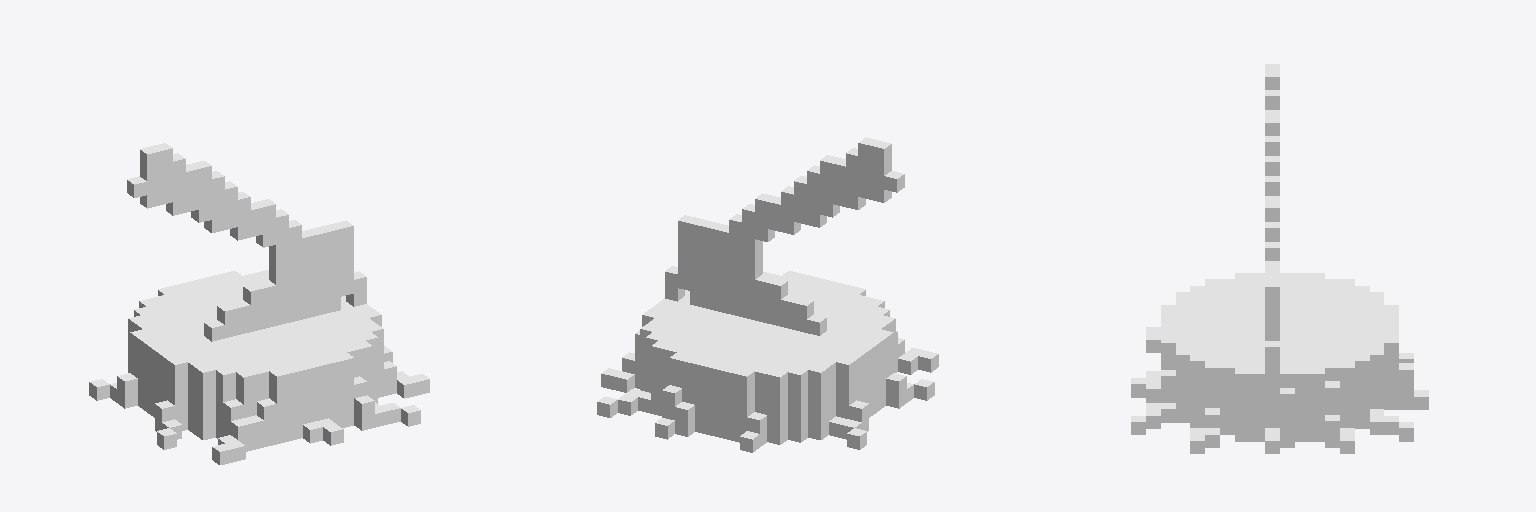
The model's file is StumpWithAxe.obj.
3 views of the same model, side by side, from view 1: azimuth 30°, elevation 25°; view 2: azimuth 150°, elevation 25°; view 3: azimuth 270°, elevation 25° (orthographic).
Size of the model in its own units: 20 by 20 by 20.